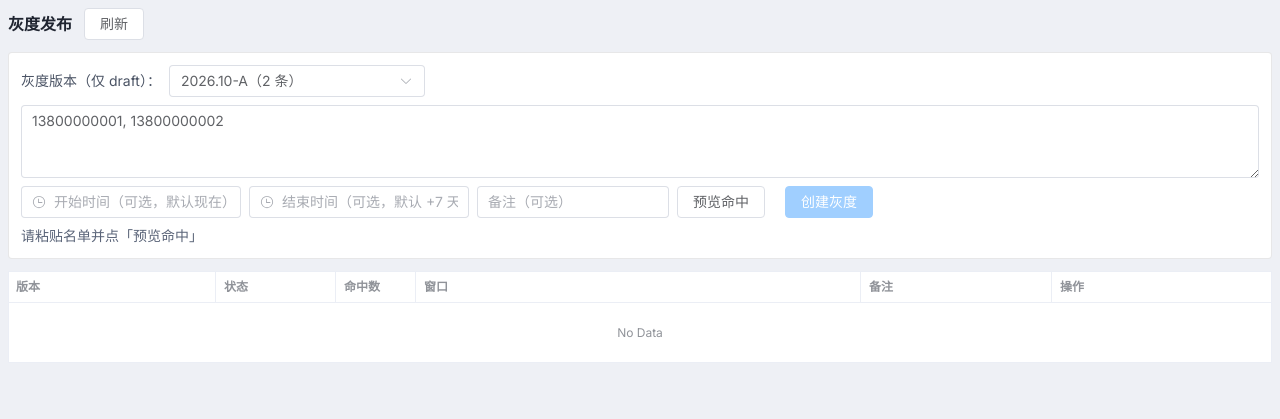
Scenario: AdminGrayReleasePage › 防误伤：真实顺序（选版本 → 填名单 → 点预览）仍可创建，预览态不被误清
预览必须是最后一个动作（watch 只在名单/版本「变化时」清 preview）
Click the button "预览命中": (721, 202) left=677, top=186, right=765, bottom=218
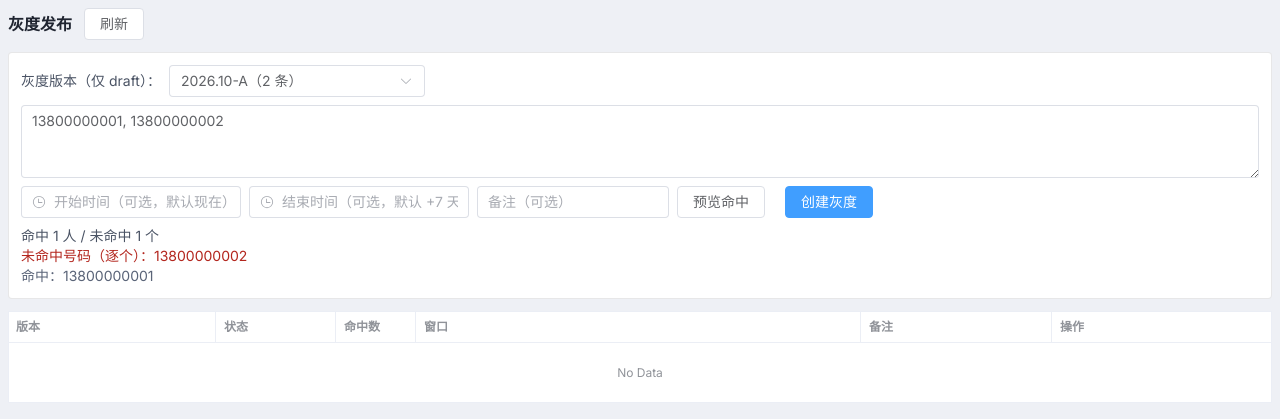
Expected: the button with test id "create-btn" is enabled, left=785, top=186, right=873, bottom=218
Expected: the element with test id "preview-panel" shows "命中 1 人", left=21, top=227, right=159, bottom=244
